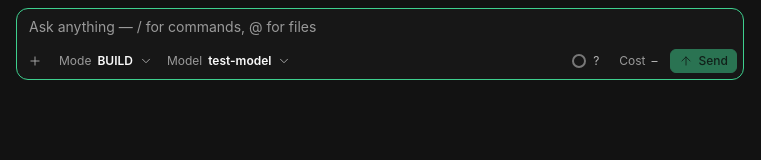
it: Composer @ mentions › searches after a pause and inserts the picked relative path as text
Step 1. Type "open @sr" into the dropdown named "Message" → (380, 27), box x1=17 y1=9 x2=743 y2=45
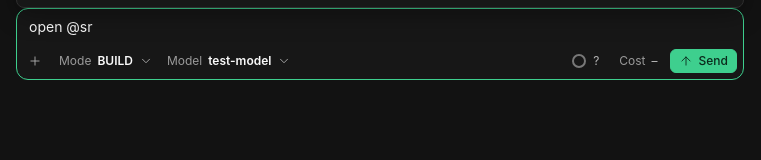
Step 2. Press ArrowDown in the dropdown named "Message", box x1=17 y1=9 x2=743 y2=45
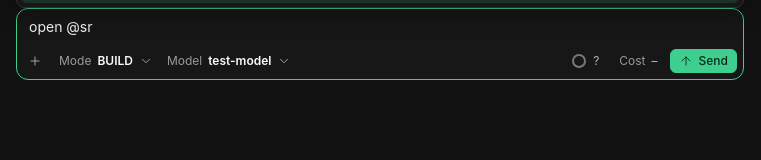
Step 3. Press Enter in the dropdown named "Message", box x1=17 y1=9 x2=743 y2=45
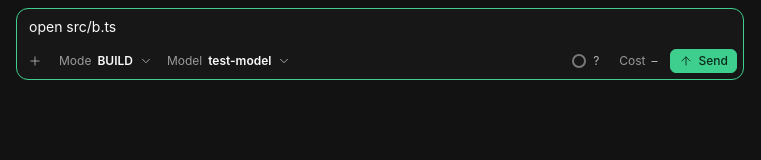
Result: the dropdown named "Message" holds "open src/b.ts " at x1=17 y1=9 x2=743 y2=45
